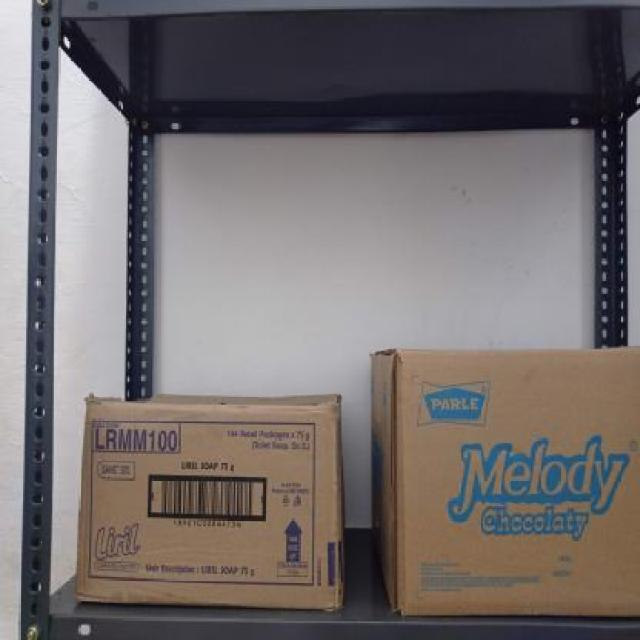box: (392, 347, 640, 615), (74, 399, 346, 604)
